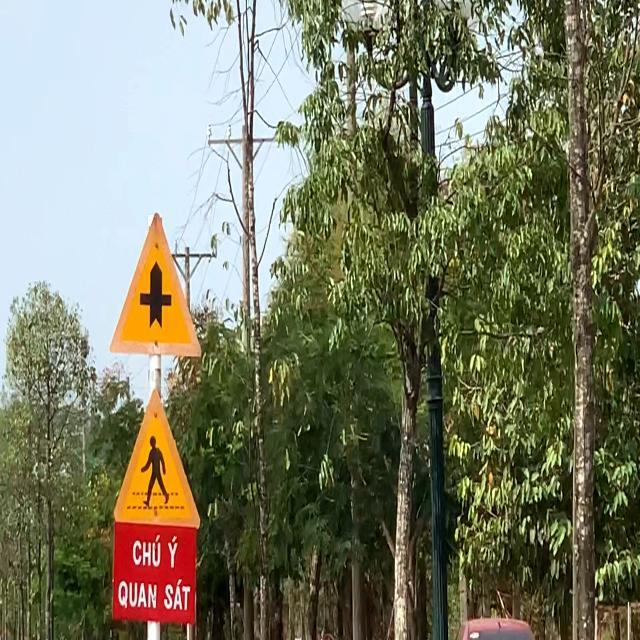W-207a: (112, 212, 202, 356)
W-224: (110, 390, 203, 529)
